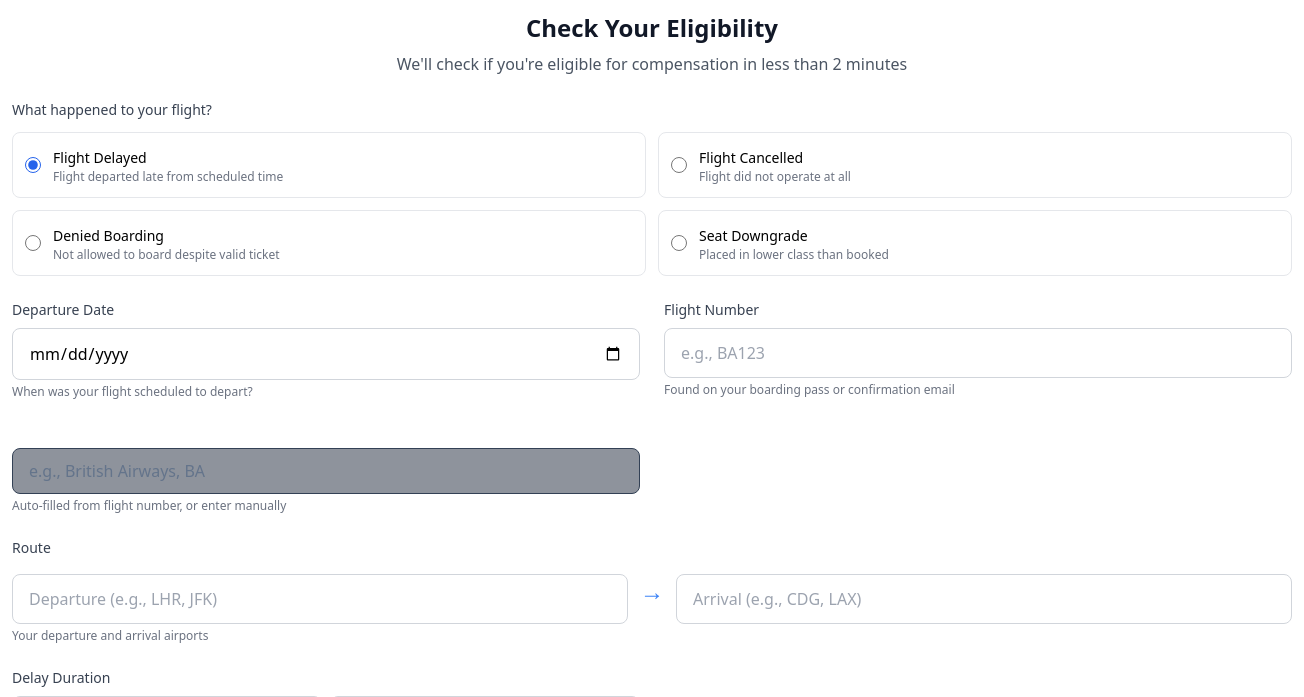
it: FlightLookupForm - Conditional Rendering › cancellation-specific fields › should not show delay fields when cancellation is selected
Click the radio button labelled "Flight Cancelled Flight did not operate at all". click: (679, 165)
box: x1=671 y1=157 x2=687 y2=173
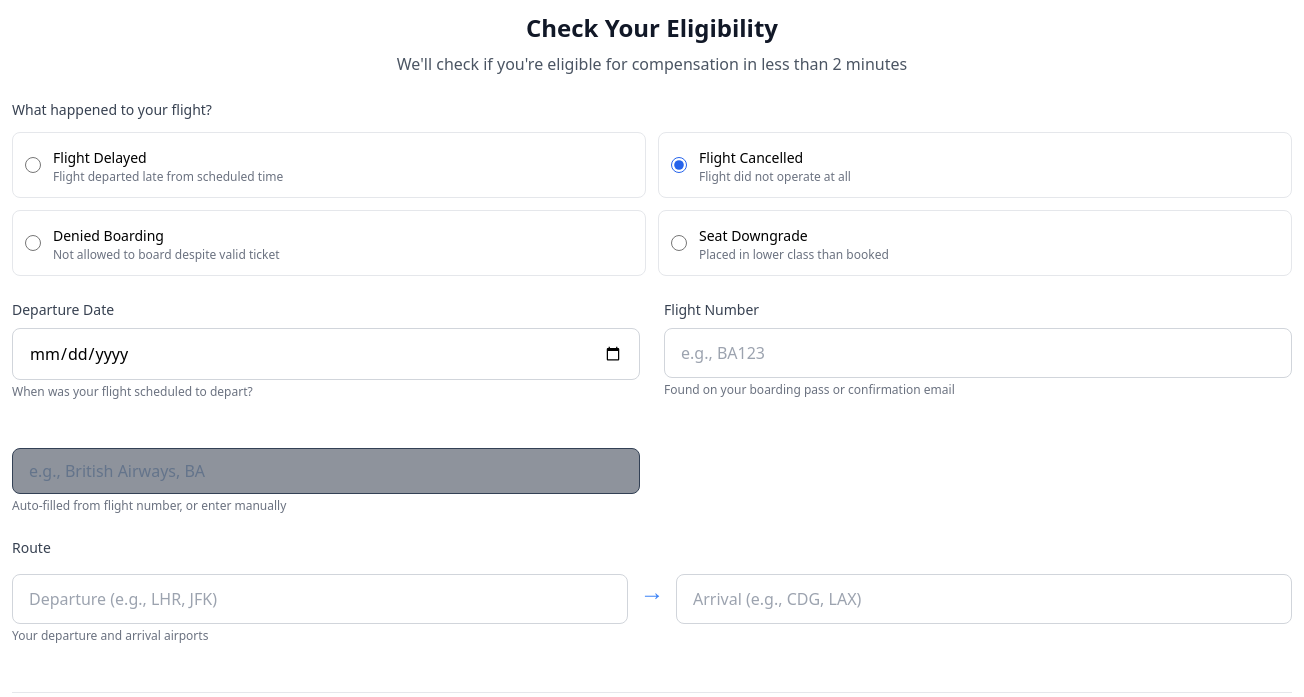
Expected: the text "Delay Duration" is gone
